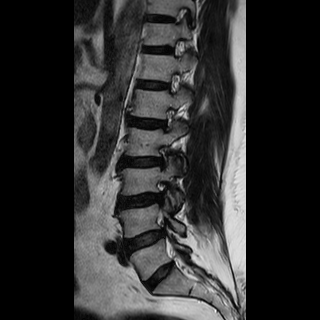LFS0: (158, 102, 179, 135)
LFS1: (153, 140, 178, 174)
LFS3: (153, 177, 178, 211)
